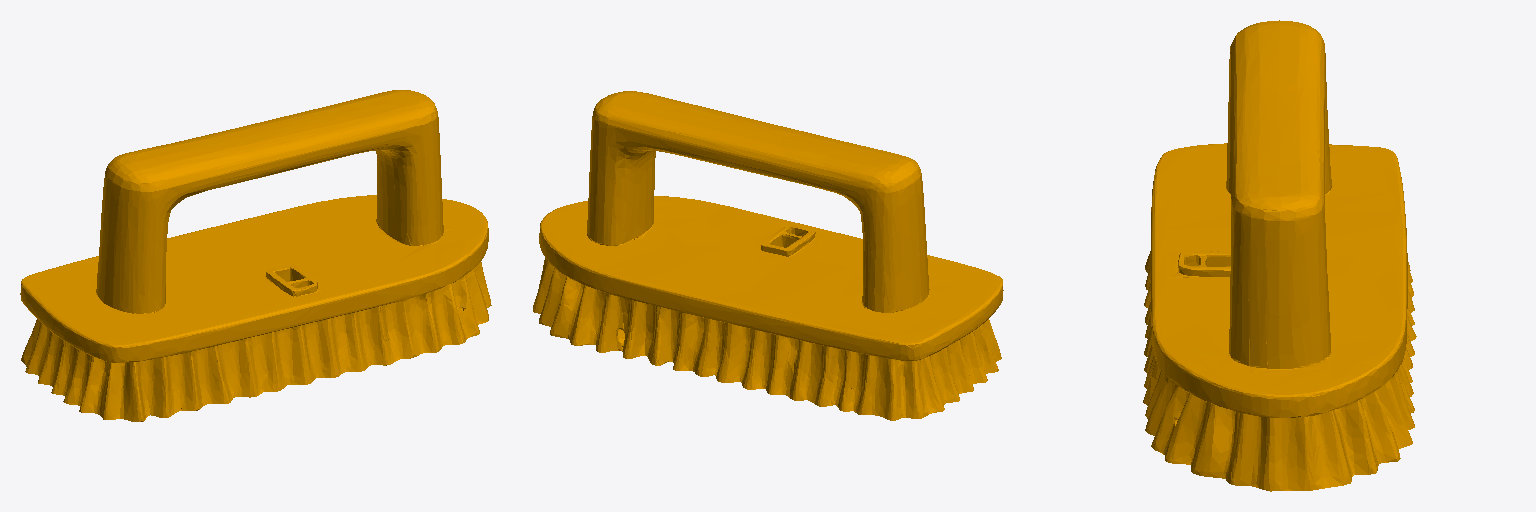
URDF robot description (davian_handle_eraser):
<?xml version="1.0"?>
<robot name="davian_handle_eraser">
  <link name="davian_handle_eraser">
    <visual>
      <origin xyz="0 0 0" rpy="0 0 0"/>
      <geometry>
        <mesh filename="davian_handle_eraser.obj" scale="1 1 1"/>
      </geometry>
    </visual>
    <collision>
      <origin xyz="0 0 0" rpy="0 0 0"/>
      <geometry>
        <mesh filename="davian_handle_eraser.obj" scale="1 1 1"/>
      </geometry>
    </collision>
    <!-- Mass is weighed, 58 g, not the benchmark's density 400 which gives 127 g.
         Inertia is the convex hulls' tensor at the density that matches the
         scale, 182.35 kg per cubic metre. The decomposition script keeps an
         explicit mass verbatim, so this survives regeneration. -->
    <inertial>
      <origin xyz="-0.00335212 0.000305564 -0.0384008" rpy="0 0 0"/>
      <mass value="0.058"/>
      <inertia ixx="3.68609e-05" ixy="-3.36002e-07" ixz="-1.29365e-06" iyy="0.000118542" iyz="1.22459e-07" izz="0.000112652"/>
    </inertial>
  </link>
</robot>

--- What the picture shows (computed from the rendered views, not written in the file) ---
The picture shows the robot from 3 angles, left to right: view 1: azimuth 30°, elevation 25°; view 2: azimuth 150°, elevation 25°; view 3: azimuth 270°, elevation 25°; orthographic projection.
Robot: davian_handle_eraser — 1 links, 0 joints (none); root link davian_handle_eraser; default pose: every joint at zero.
Links seen in each view (by area): view 1: davian_handle_eraser; view 2: davian_handle_eraser; view 3: davian_handle_eraser.
Link boxes in pixels (x1,y1,x2,y2): davian_handle_eraser: [20, 90, 491, 421]; davian_handle_eraser: [533, 91, 1003, 420]; davian_handle_eraser: [1143, 20, 1416, 491].
Size in the robot's own frame: 0.1538 by 0.0691 by 0.072 metres.
1 mesh visuals loaded from 1 distinct referenced files (1 OBJ).
